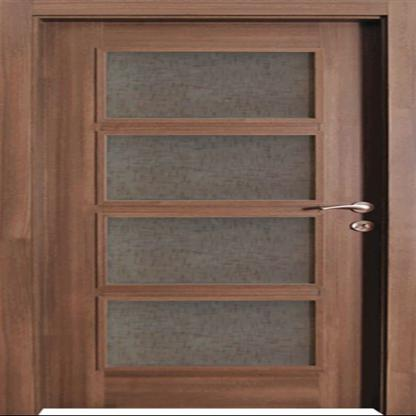door: (42, 22, 380, 409)
